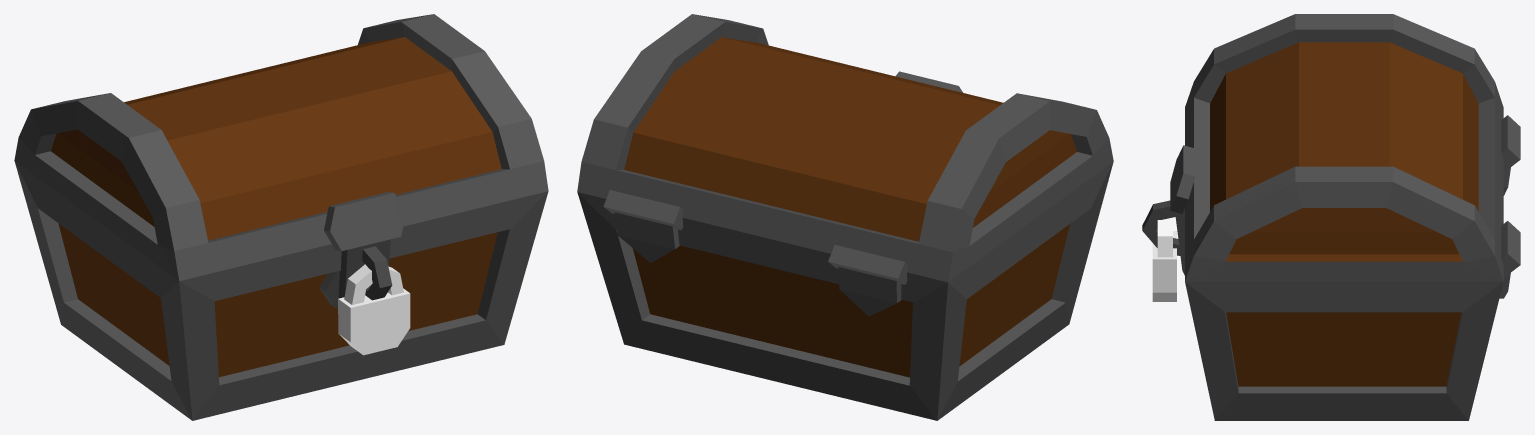
File: Goldchest.fbx
The picture shows the model from 3 angles, left to right: view 1: azimuth 30°, elevation 25°; view 2: azimuth 150°, elevation 25°; view 3: azimuth 270°, elevation 25°; orthographic projection. The views are drawn at different scales.
Parts seen in each view (by area): view 1: polySurface203, polySurface204, polySurface205, Goldchest; view 2: polySurface203, polySurface204; view 3: polySurface203, polySurface204, polySurface205, Goldchest.
Part boxes in pixels (x1,y1,x2,y2): polySurface203: (14, 14, 548, 298); polySurface204: (14, 161, 548, 420); polySurface205: (338, 288, 410, 355); Goldchest: (344, 264, 403, 304); polySurface203: (577, 14, 1113, 282); polySurface204: (577, 161, 1113, 420); polySurface203: (1170, 14, 1503, 281); polySurface204: (1142, 115, 1520, 420); polySurface205: (1152, 231, 1176, 301); Goldchest: (1157, 217, 1172, 257).
Bounding box in the file's own units: 1.66 × 1.11 × 1.52.
